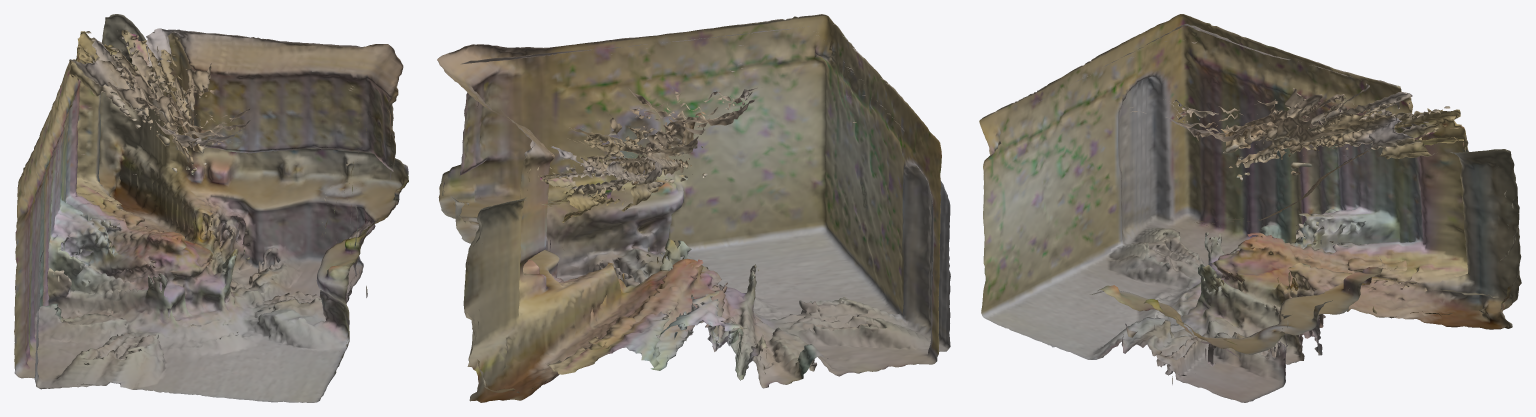
The model's file is pearl-wings-kitchen_collider.glb.
The picture shows the model from 3 angles, left to right: view 1: azimuth 30°, elevation 25°; view 2: azimuth 150°, elevation 25°; view 3: azimuth 270°, elevation 25°; orthographic projection. The views are drawn at different scales.
Parts seen in each view (by area): view 1: world; view 2: world; view 3: world.
Boxes of the visible parts, bbox=[...] form: world: bbox=[14, 14, 408, 402]; world: bbox=[437, 14, 950, 402]; world: bbox=[979, 14, 1521, 402].
Bounding box in the file's own units: 6.26 × 3.14 × 6.86.
